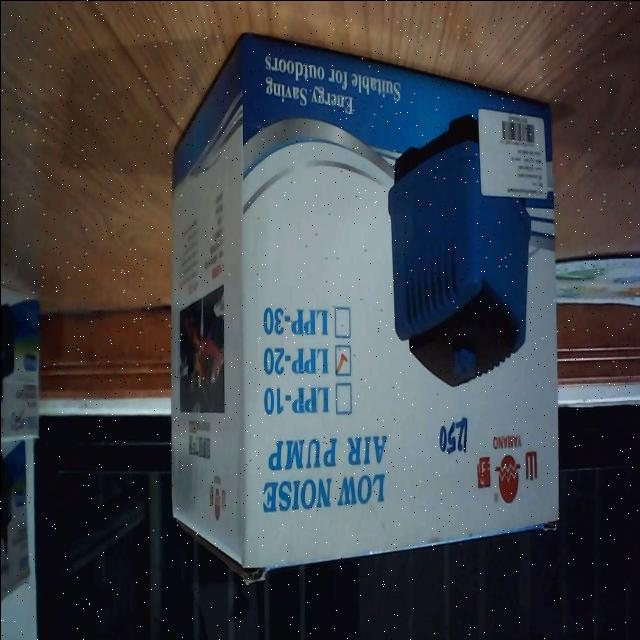YAMANO_LPP_20: (160, 19, 570, 592)
